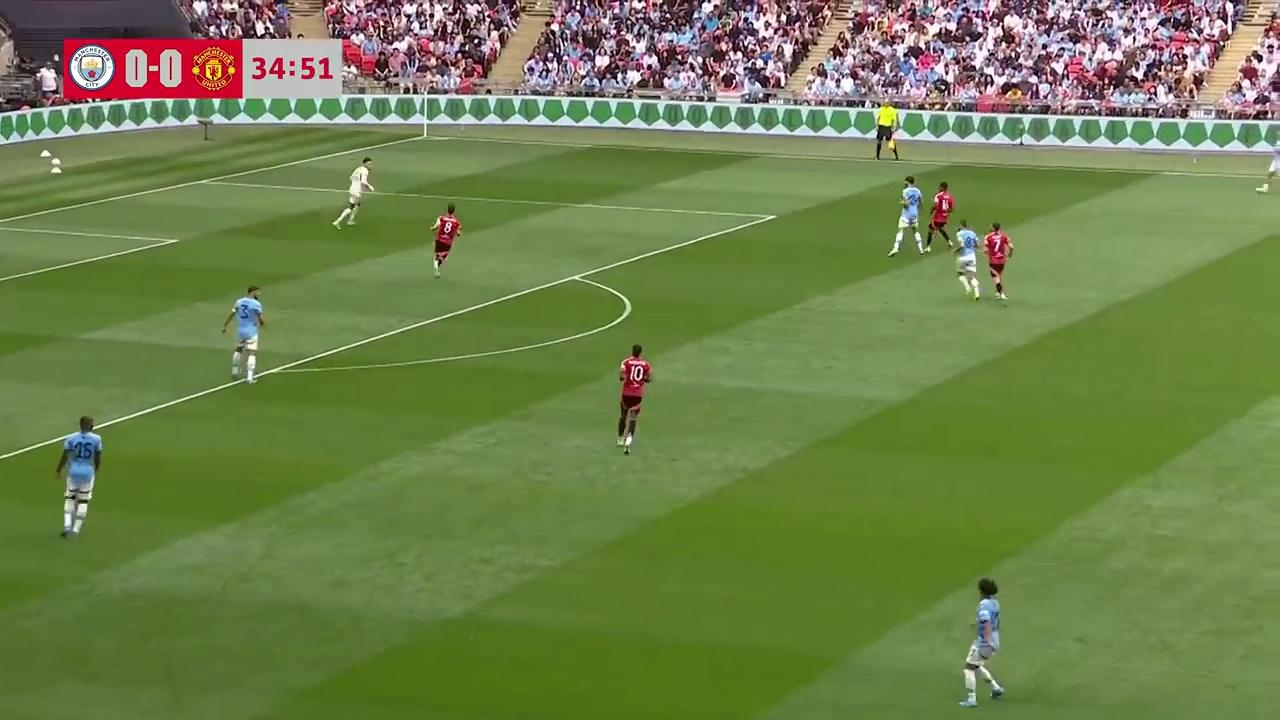player: (55, 416, 103, 536), (961, 577, 1004, 704), (225, 286, 265, 383), (617, 343, 652, 453), (888, 175, 925, 258), (333, 160, 375, 228), (981, 221, 1012, 303), (953, 220, 981, 300), (431, 204, 461, 278), (925, 181, 955, 252), (1258, 141, 1280, 193)
referee: (873, 100, 899, 160)
